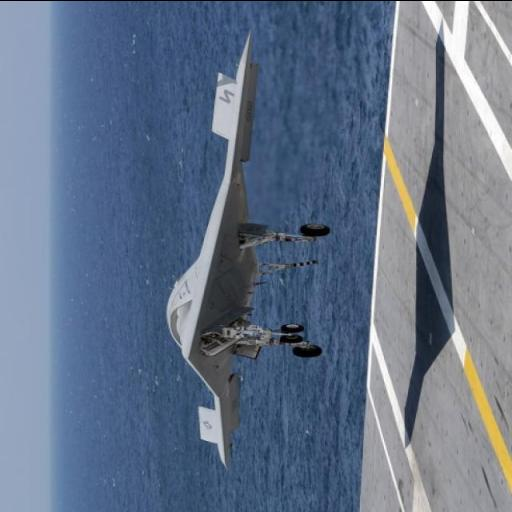uav: (154, 24, 334, 471)
